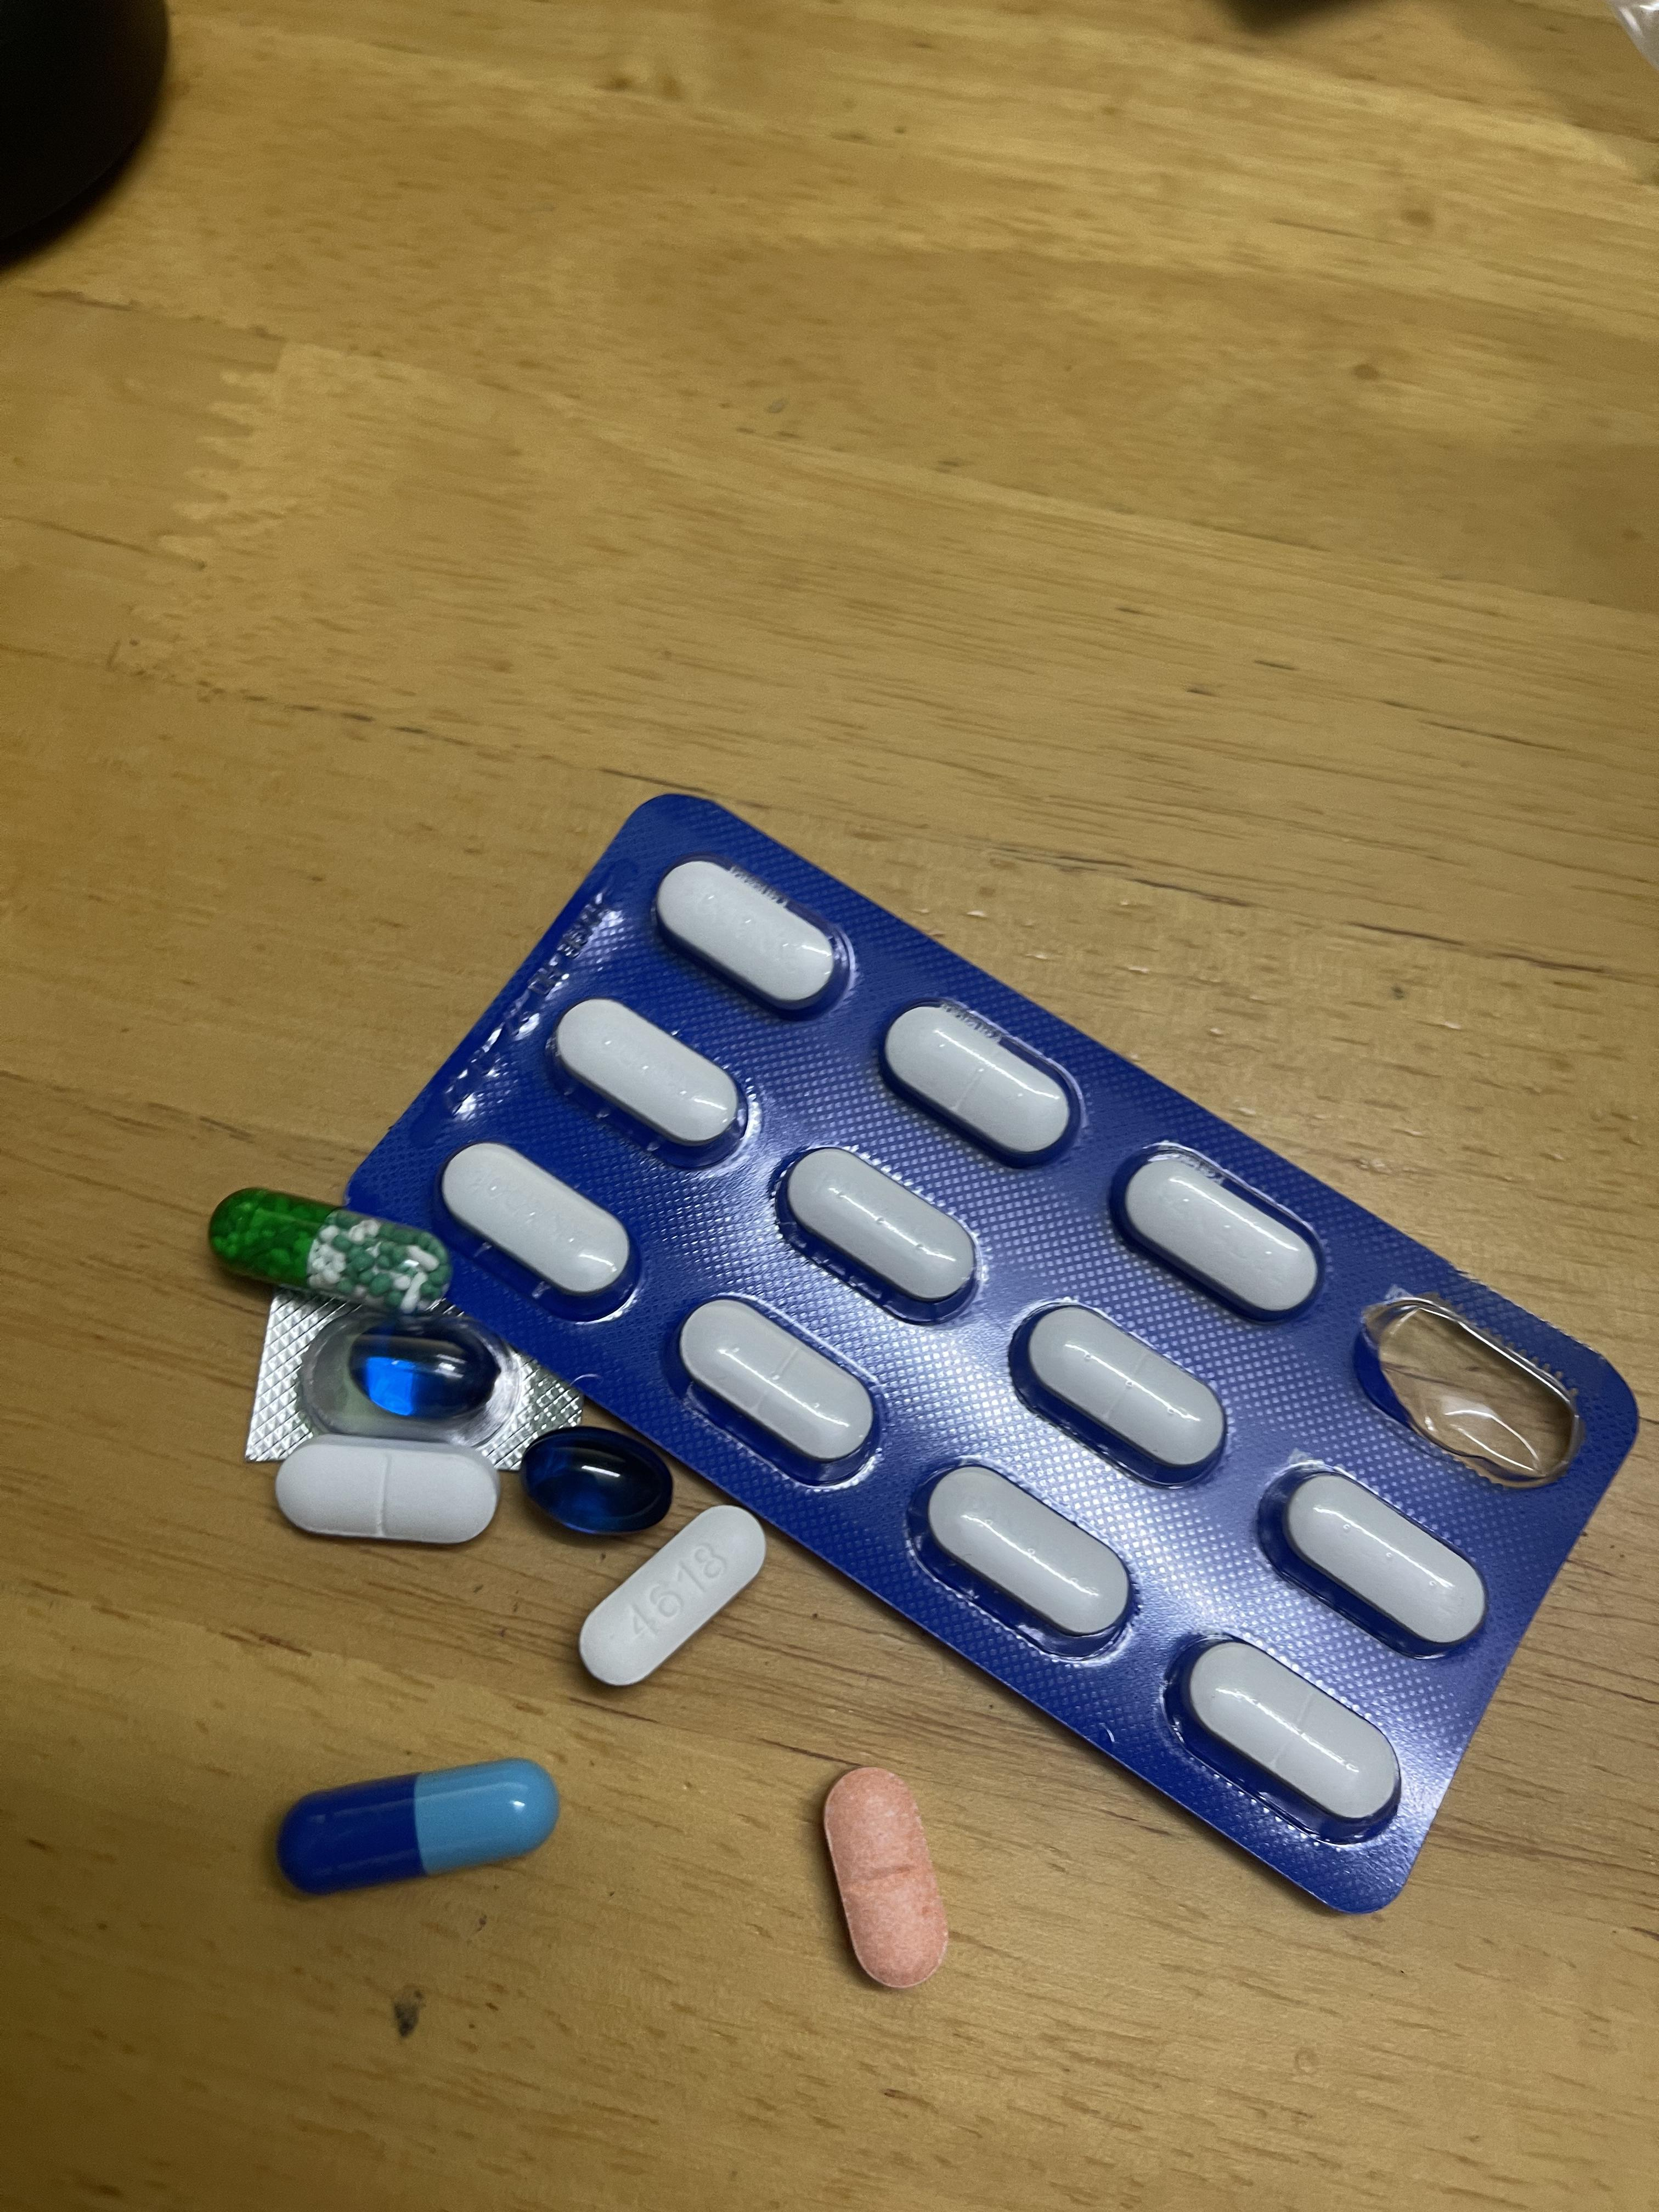Lincomyxin_500mg: (525, 1430, 674, 1534), (354, 1334, 497, 1418)
Loratadine_10mg: (823, 1770, 946, 1989)
Paracetamol_350mg: (1173, 1635, 1399, 1838), (1262, 1467, 1486, 1662), (917, 1461, 1133, 1646), (1011, 1303, 1216, 1484), (671, 1296, 877, 1475), (1115, 1146, 1324, 1320), (779, 1146, 986, 1313), (882, 1005, 1086, 1172), (441, 1143, 638, 1308), (653, 857, 847, 1014), (549, 998, 741, 1153), (275, 1435, 502, 1548)
Paracetamol_500mg: (579, 1507, 765, 1688)
Paracetamol_650mg: (213, 1191, 444, 1310)
pill: (282, 1763, 551, 1892)
